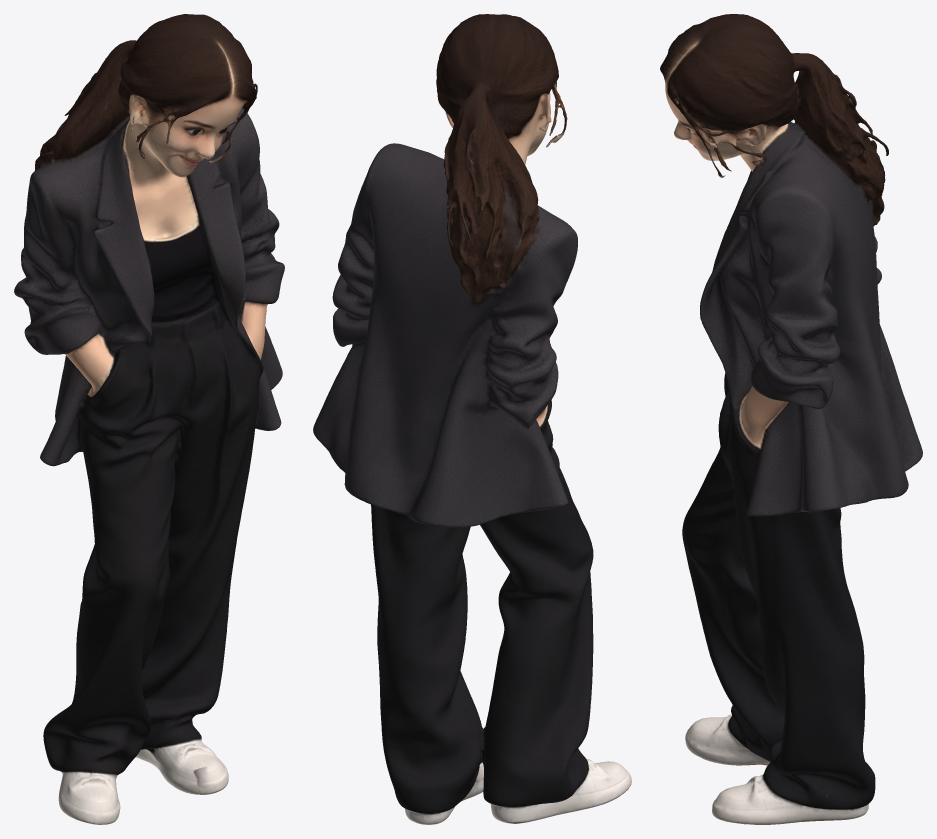
Rendered from character.glb.
The picture shows the model from 3 angles, left to right: view 1: azimuth 30°, elevation 25°; view 2: azimuth 150°, elevation 25°; view 3: azimuth 270°, elevation 25°; orthographic projection. The views are drawn at different scales.
Size of the model in its own units: 0.6752 by 1.9 by 0.5728.
1 material, 1 textured.
